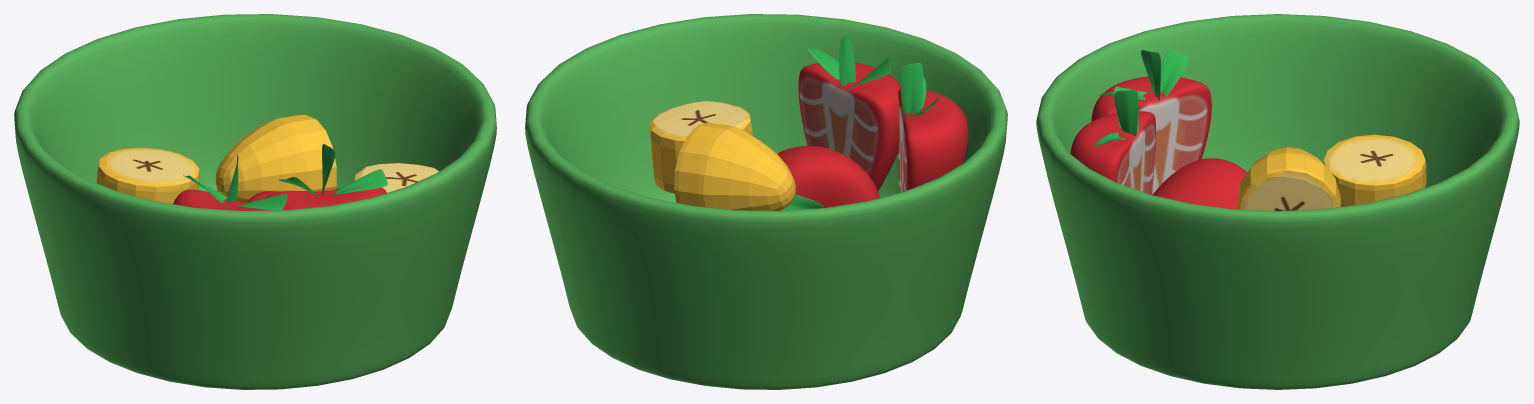
The model's file is BolPlatanoFresa.fbx.
3 views of the same model, side by side, from view 1: azimuth 30°, elevation 25°; view 2: azimuth 150°, elevation 25°; view 3: azimuth 270°, elevation 25° (orthographic).
Parts seen in each view (by area): view 1: Plátanos cortados; view 2: Plátanos cortados; view 3: Plátanos cortados.
Boxes of the visible parts, <box> form: Plátanos cortados: <box>14,14,496,389</box>; Plátanos cortados: <box>525,14,1007,389</box>; Plátanos cortados: <box>1036,14,1519,389</box>.
Bounding box in the file's own units: 4.12 × 2.06 × 4.12.
